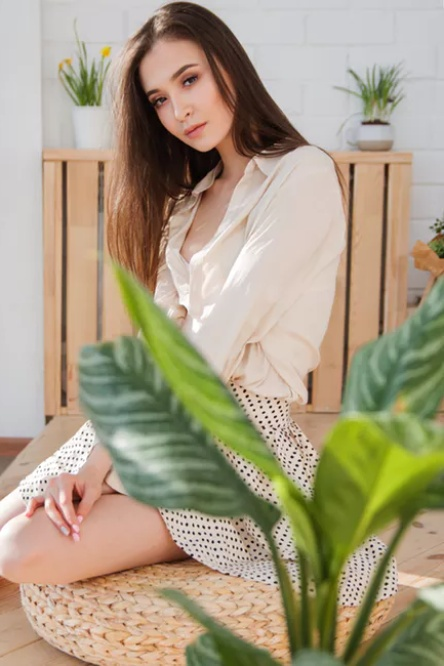face: (137, 41, 226, 154)
